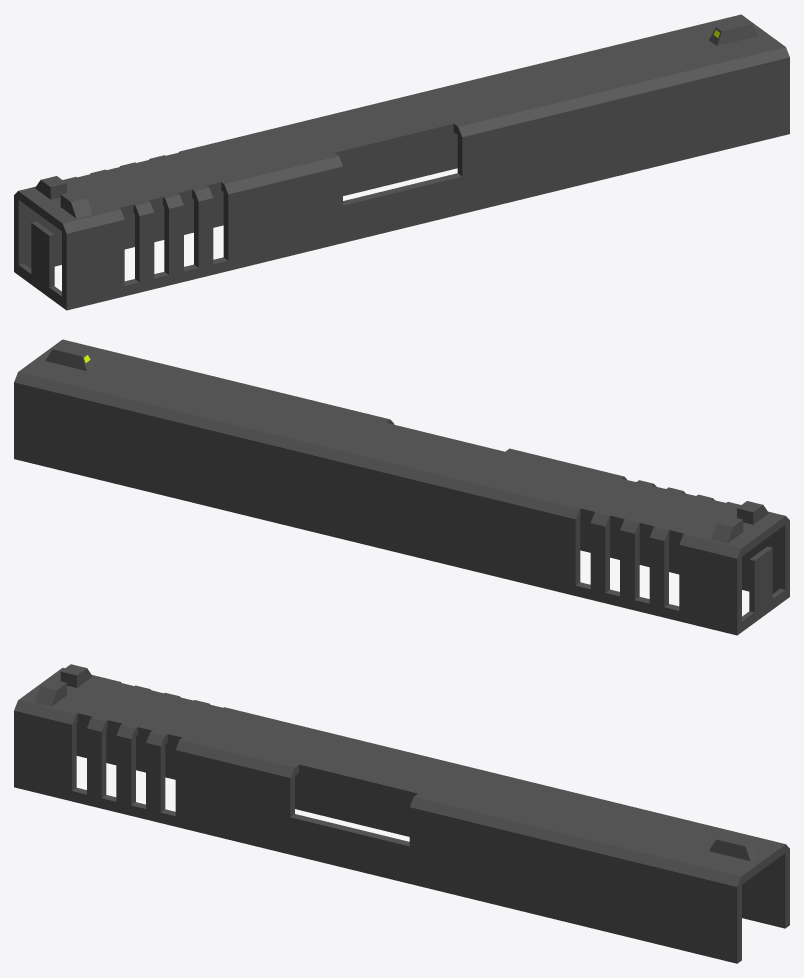
Rendered from Pistol4_01_2.fbx.
3 renders of one model, top to bottom at view 1: azimuth 30°, elevation 25°; view 2: azimuth 150°, elevation 25°; view 3: azimuth 330°, elevation 25°, orthographic.
Parts seen in each view (by area): view 1: Pistol4_01_2; view 2: Pistol4_01_2; view 3: Pistol4_01_2.
Part boxes in pixels (x1,y1,x2,y2): Pistol4_01_2: (14, 14, 789, 310); Pistol4_01_2: (14, 339, 789, 635); Pistol4_01_2: (14, 664, 789, 963).
Bounding box in the file's own units: 0.224 × 0.0286 × 0.0283.
